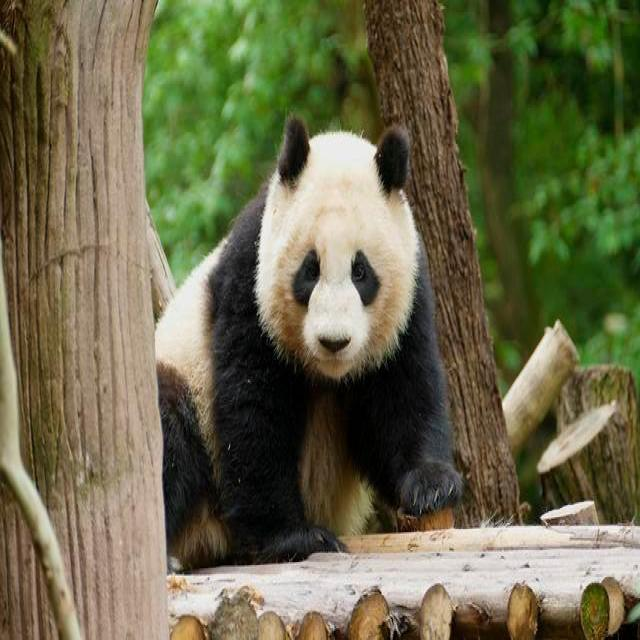panda: (152, 104, 470, 562)
